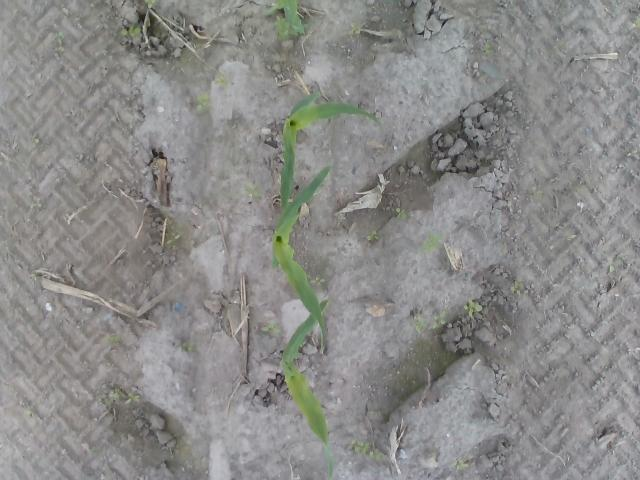Maize: (270, 165, 336, 354), (278, 90, 374, 210), (280, 297, 337, 480), (265, 1, 303, 34)
Weeds: (349, 439, 387, 460), (422, 228, 448, 257), (412, 311, 448, 329), (256, 322, 283, 338), (242, 183, 264, 198), (462, 299, 480, 317), (608, 254, 625, 272), (308, 272, 328, 287), (120, 25, 142, 38), (49, 31, 66, 47), (391, 208, 409, 222), (197, 93, 210, 112), (274, 16, 286, 36), (125, 392, 142, 406), (349, 22, 364, 36), (509, 280, 524, 294), (366, 229, 381, 242), (481, 46, 497, 56), (452, 460, 466, 471), (214, 74, 227, 85), (180, 342, 194, 352), (31, 132, 42, 144), (108, 390, 119, 400), (144, 0, 155, 9), (634, 16, 640, 29)
